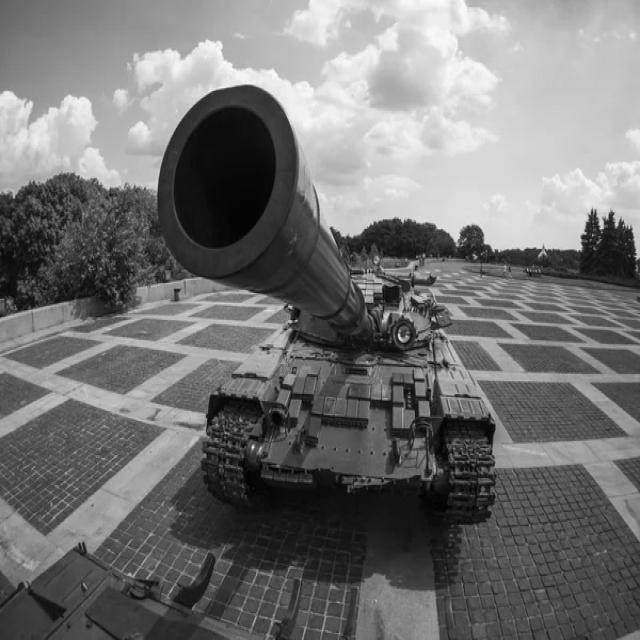Tank: (147, 74, 509, 528)
